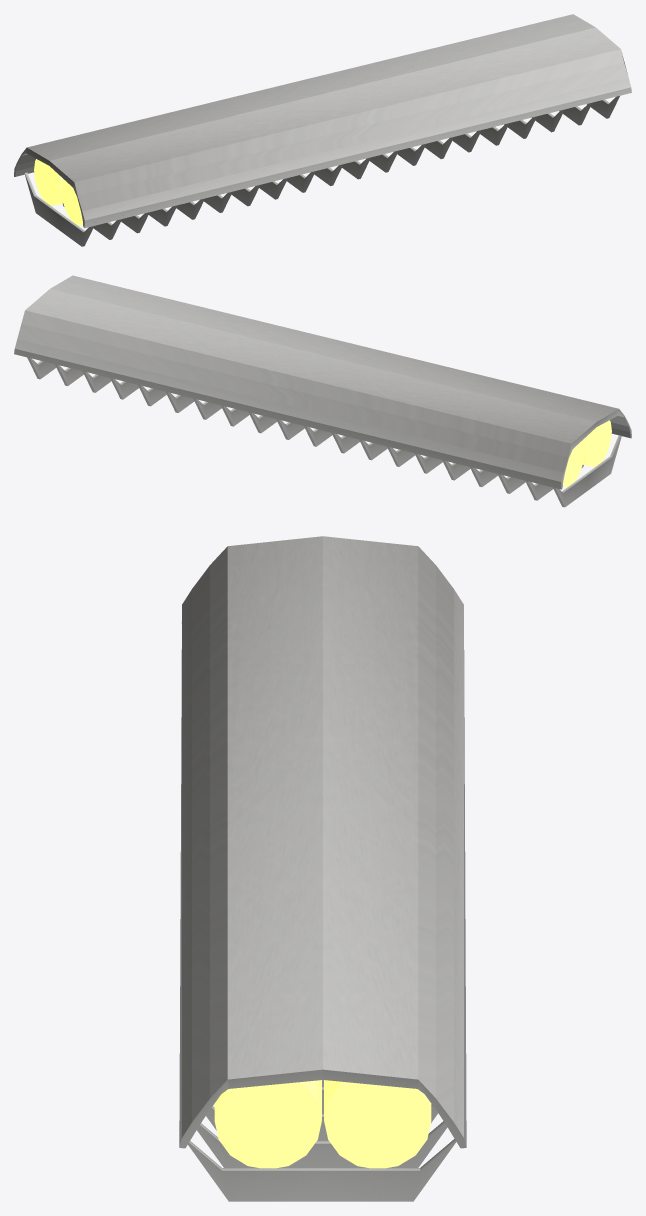
The model's file is illumination.fbx.
3 views of the same model, one above another, from view 1: azimuth 30°, elevation 25°; view 2: azimuth 150°, elevation 25°; view 3: azimuth 270°, elevation 25° (orthographic). The views are drawn at different scales.
Visible parts, largest first — view 1: TopMetalPiece, MetalBottomPieces, LightBulbs; view 2: TopMetalPiece, MetalBottomPieces, LightBulbs; view 3: TopMetalPiece, LightBulbs, MetalBottomPieces.
Part boxes in pixels (bbox=[...]): TopMetalPiece: bbox=[14, 14, 631, 228]; MetalBottomPieces: bbox=[24, 96, 619, 246]; LightBulbs: bbox=[34, 159, 82, 225]; TopMetalPiece: bbox=[14, 275, 631, 489]; MetalBottomPieces: bbox=[27, 357, 621, 507]; LightBulbs: bbox=[563, 420, 611, 487]; TopMetalPiece: bbox=[179, 536, 466, 1148]; LightBulbs: bbox=[214, 1080, 431, 1168]; MetalBottomPieces: bbox=[181, 622, 456, 1201].
Size of the model in its own units: 1039 by 129 by 236.
